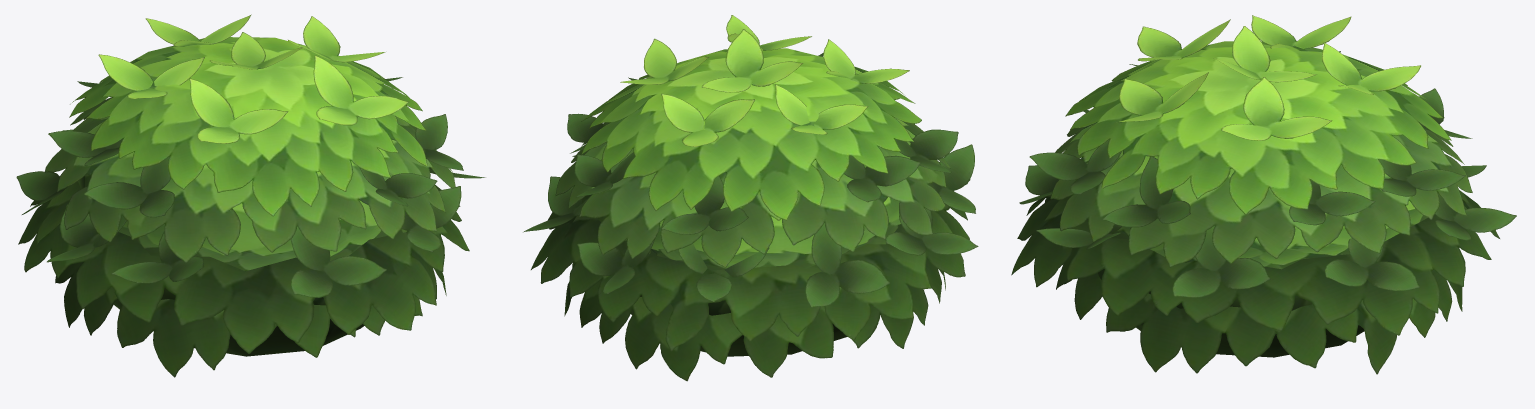
Rendered from green-bush.glb.
3 views of the same model, side by side, from view 1: azimuth 30°, elevation 25°; view 2: azimuth 150°, elevation 25°; view 3: azimuth 270°, elevation 25° (orthographic). The views are drawn at different scales.
Parts seen in each view (by area): view 1: stylized bush; view 2: stylized bush; view 3: stylized bush.
Part boxes in pixels (<box>): stylized bush: <box>16,14,485,377</box>; stylized bush: <box>523,15,978,381</box>; stylized bush: <box>1011,15,1516,374</box>.
Size of the model in its own units: 1.51 by 0.9624 by 1.58.
1 material, 1 textured.
